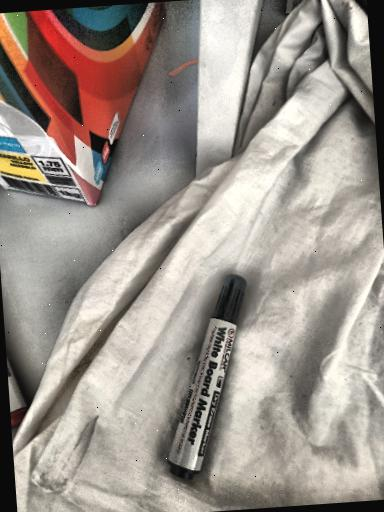marcador negro: (168, 274, 246, 479)
